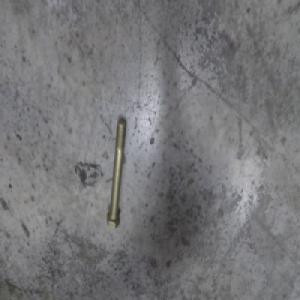Bolt: (105, 117, 127, 235)
